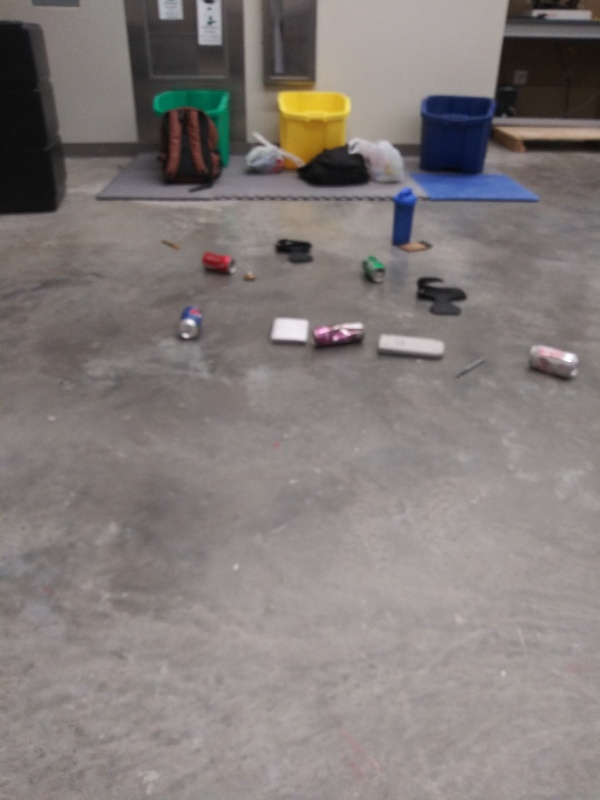can: (524, 338, 581, 382), (307, 318, 372, 351), (197, 247, 240, 276), (176, 302, 205, 340), (361, 249, 389, 288)
